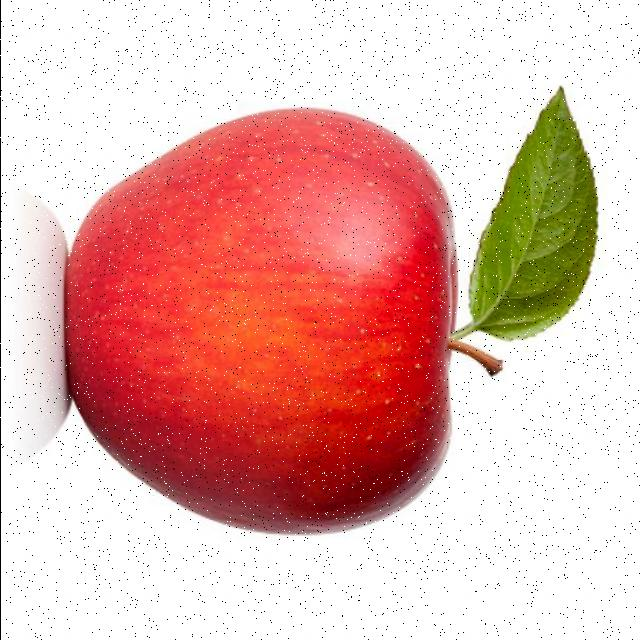HEALTHY: (41, 86, 487, 574)
